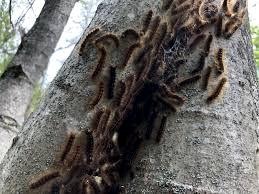Caterpillar: (28, 168, 62, 190), (83, 127, 99, 167), (151, 114, 172, 144), (58, 132, 78, 163), (79, 26, 98, 56), (117, 76, 132, 109), (214, 46, 231, 74), (91, 81, 105, 109), (121, 26, 140, 45), (107, 65, 115, 98), (216, 9, 224, 41), (202, 67, 210, 91)
